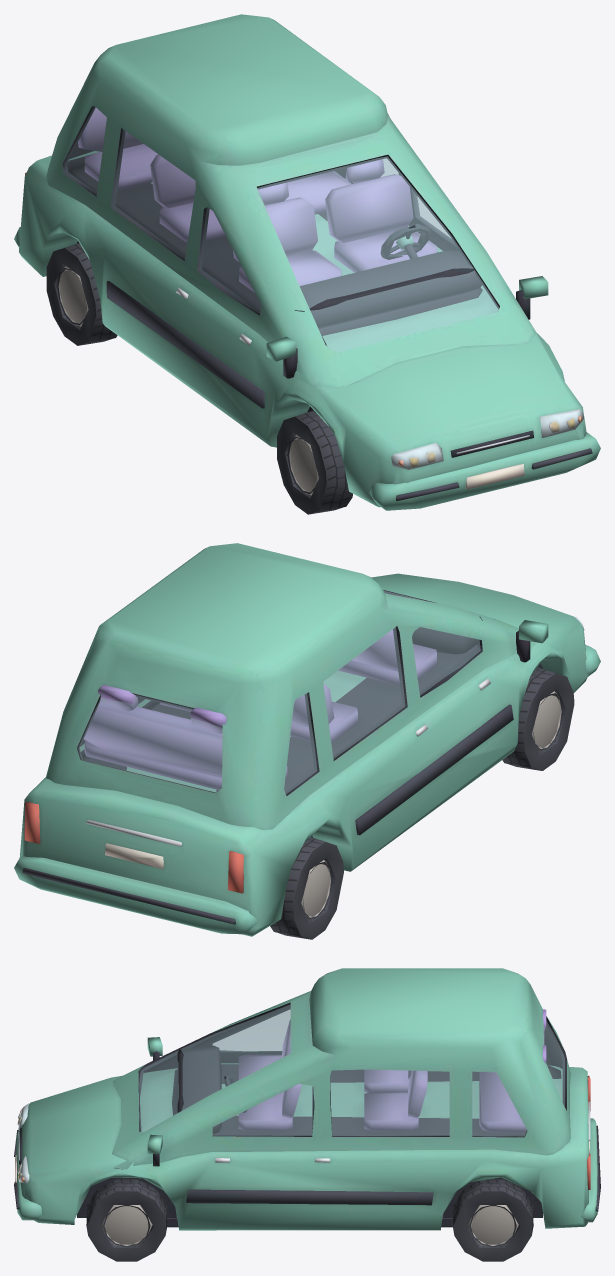
The model's file is g3-1990s-minivan-lite.glb.
The picture shows the model from 3 angles, top to bottom: view 1: azimuth 30°, elevation 25°; view 2: azimuth 150°, elevation 25°; view 3: azimuth 270°, elevation 25°; orthographic projection. The views are drawn at different scales.
Visible parts, largest first — view 1: 1990s-minivan_body, 1990s-minivan_windows, 1990s-minivan_wheel_fr, 1990s-minivan_wheel_rr; view 2: 1990s-minivan_body, 1990s-minivan_windows, 1990s-minivan_wheel_rr, 1990s-minivan_wheel_fr; view 3: 1990s-minivan_body, 1990s-minivan_windows, 1990s-minivan_wheel_rl, 1990s-minivan_wheel_fl.
Part boxes in pixels (x1,y1,x2,y2): 1990s-minivan_body: [14, 14, 600, 510]; 1990s-minivan_windows: [65, 106, 498, 351]; 1990s-minivan_wheel_fr: [277, 410, 352, 514]; 1990s-minivan_wheel_rr: [46, 243, 117, 345]; 1990s-minivan_body: [14, 543, 600, 936]; 1990s-minivan_windows: [78, 591, 480, 793]; 1990s-minivan_wheel_rr: [270, 837, 343, 939]; 1990s-minivan_wheel_fr: [502, 667, 574, 770]; 1990s-minivan_body: [14, 968, 600, 1230]; 1990s-minivan_windows: [139, 1005, 564, 1136]; 1990s-minivan_wheel_rl: [452, 1178, 533, 1261]; 1990s-minivan_wheel_fl: [86, 1178, 167, 1261].
Bounding box in the file's own units: 1.97 × 1.85 × 4.57.
Materials: 6 (2 with a texture image).
